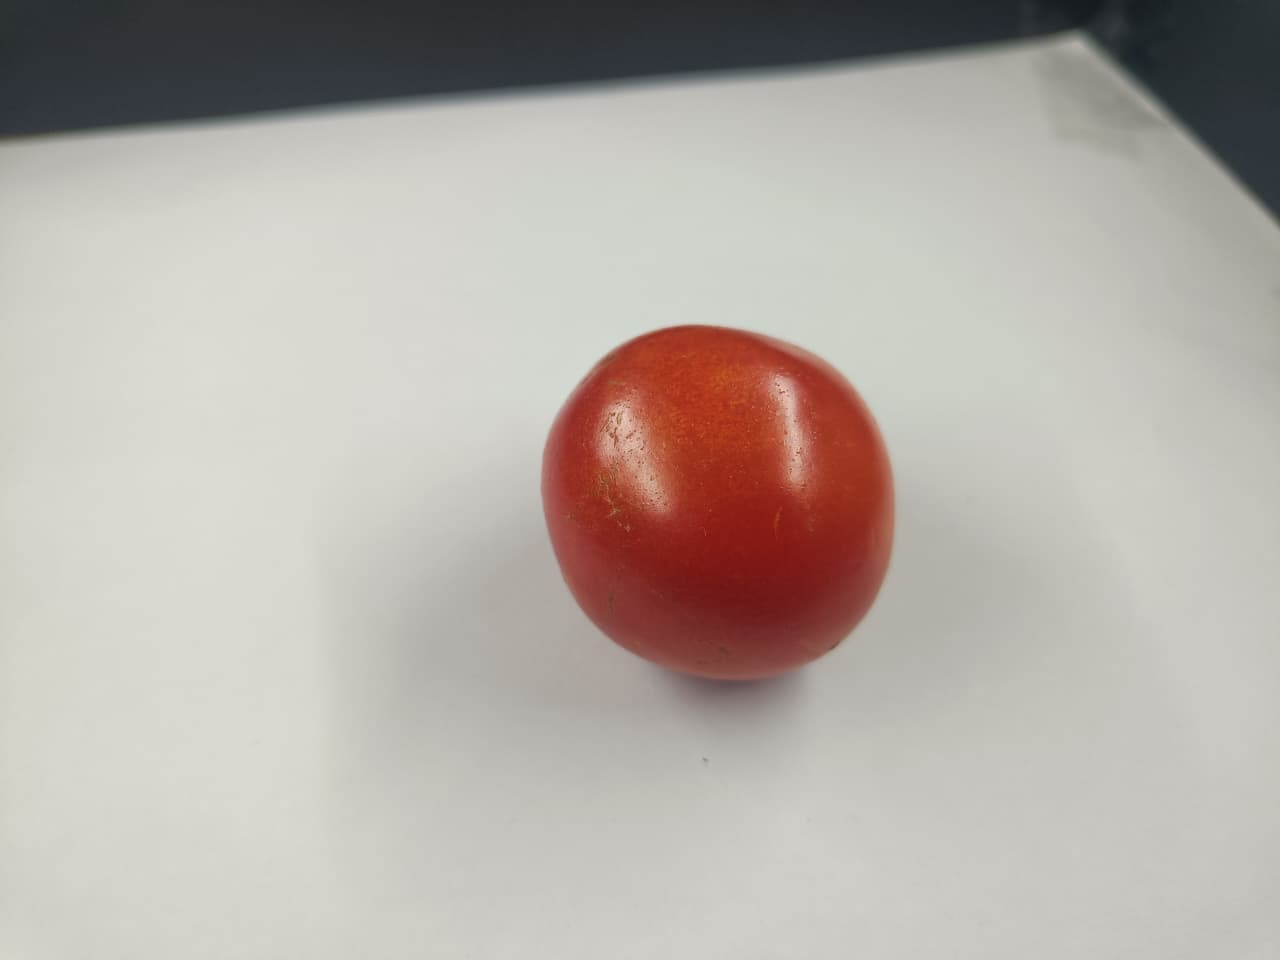ripe: (551, 280, 903, 698)
